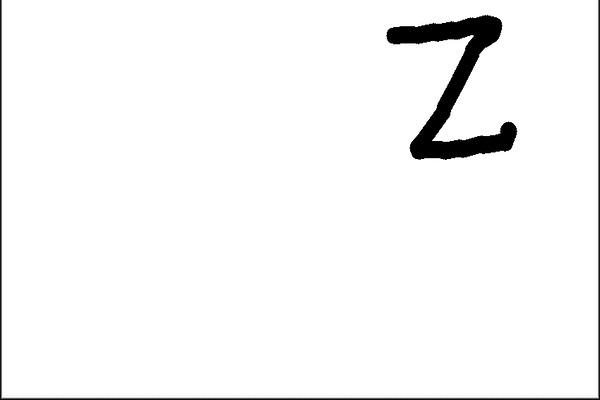Z: (382, 9, 525, 164)
